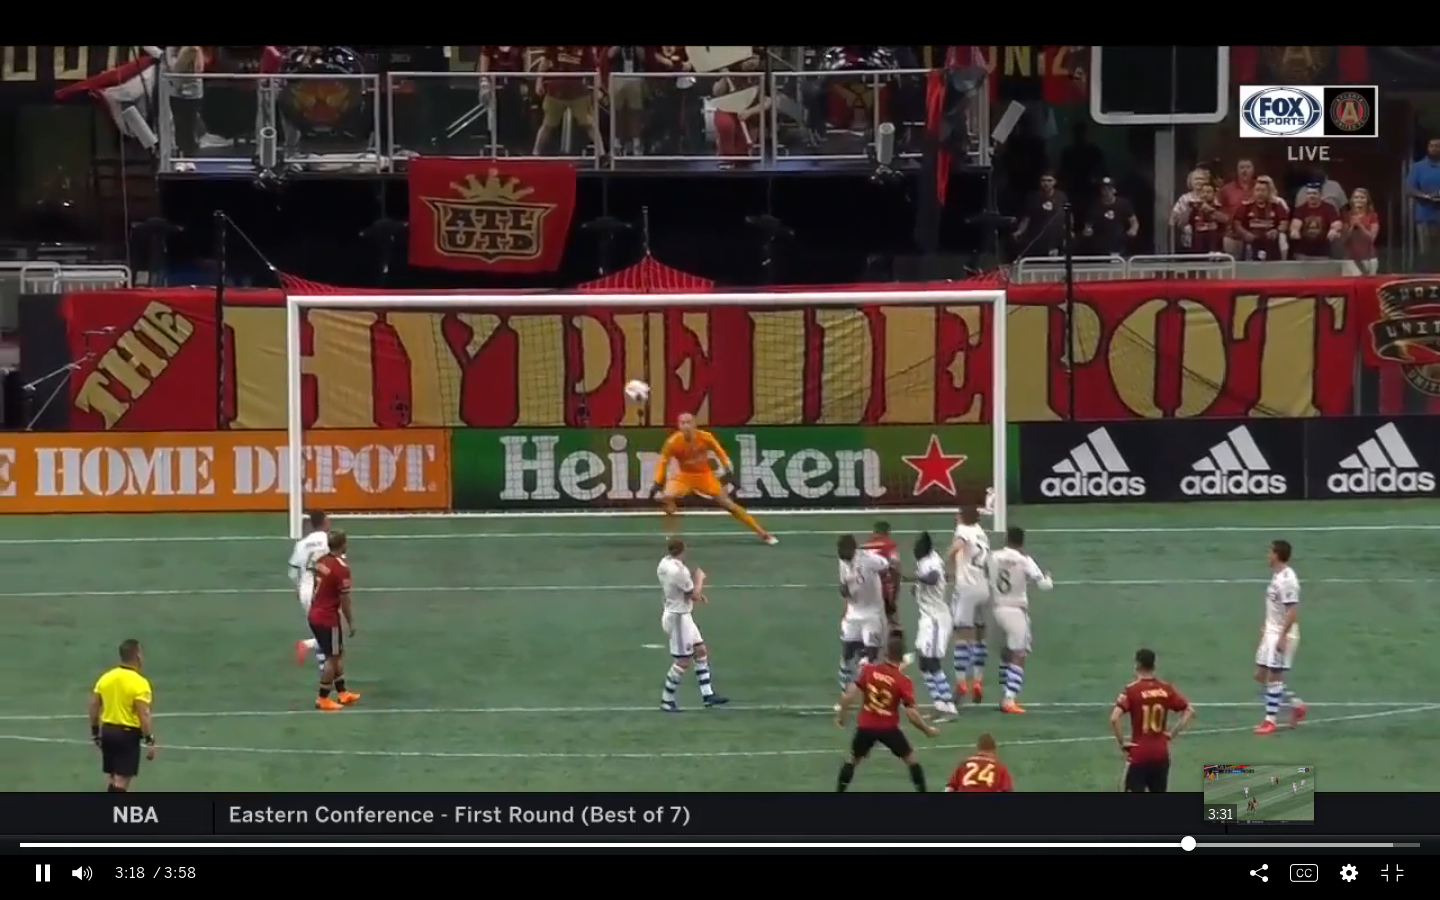referee: (84, 636, 161, 789)
soccer player: (642, 416, 778, 554), (985, 514, 1055, 712), (1248, 532, 1315, 737), (838, 649, 933, 789), (1108, 643, 1196, 791), (655, 539, 721, 714), (907, 531, 967, 720), (948, 506, 993, 708), (304, 531, 353, 712), (830, 540, 888, 683), (295, 512, 330, 666)
soccerball: (622, 374, 652, 408)
